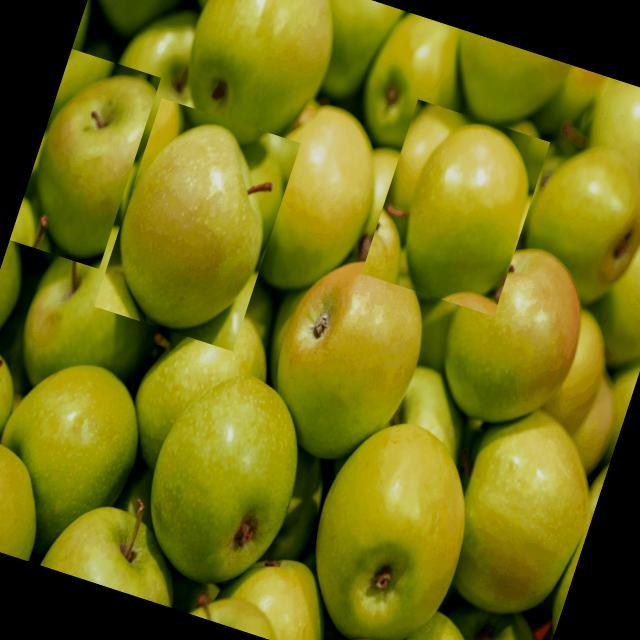Green Apple: (1, 1, 639, 640), (316, 423, 466, 639), (150, 375, 299, 584), (454, 411, 590, 614), (2, 364, 139, 550), (405, 123, 530, 301), (187, 1, 335, 144), (363, 12, 461, 148), (459, 31, 570, 124), (98, 1, 181, 36)
